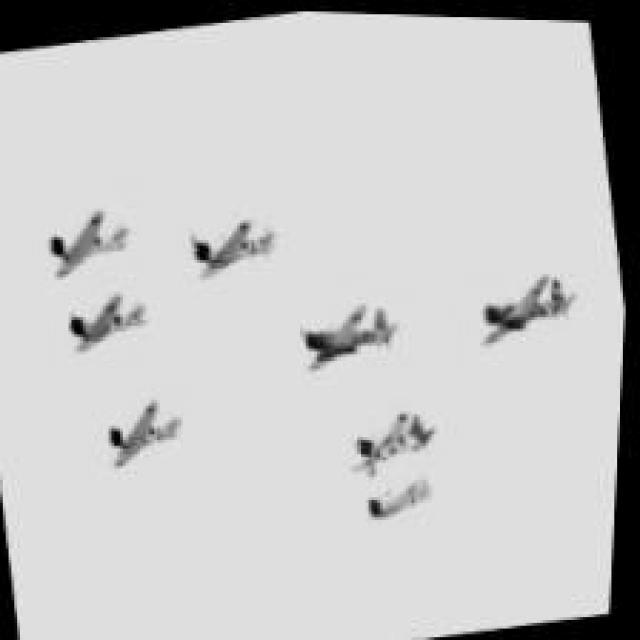aeroplane: (472, 258, 588, 344), (298, 290, 411, 370), (40, 200, 140, 283), (346, 400, 448, 477), (186, 208, 286, 283), (106, 392, 192, 468), (64, 288, 159, 356), (363, 466, 443, 520)
